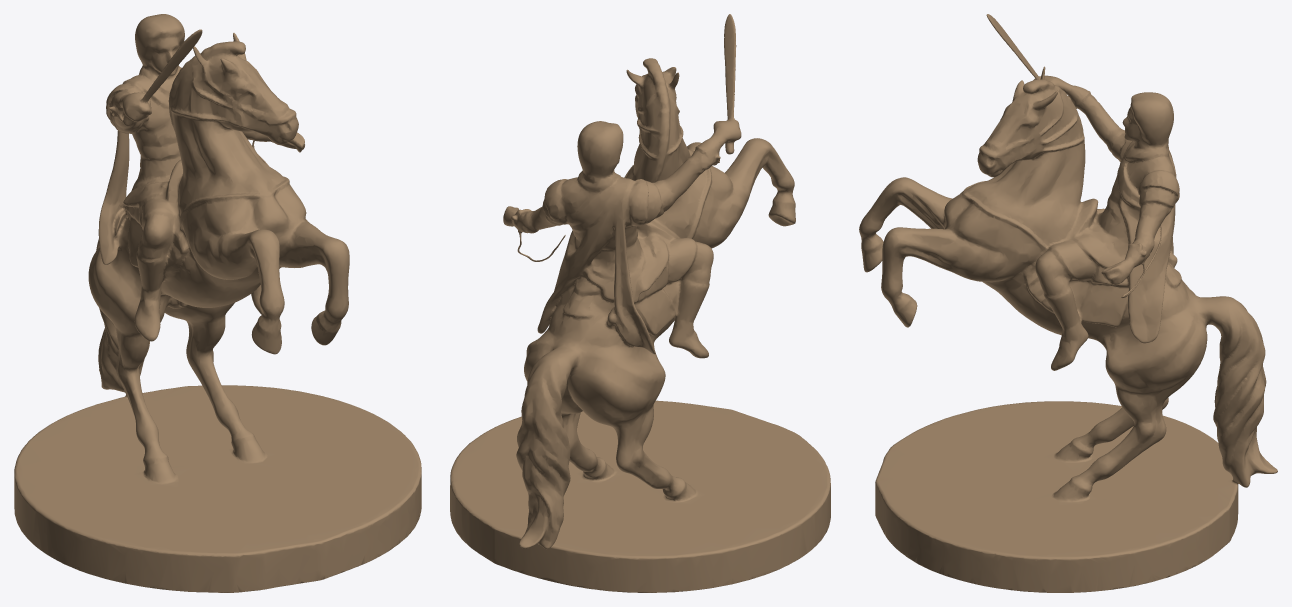
The model's file is warrior-on-horseback.glb.
3 views of the same model, side by side, from view 1: azimuth 30°, elevation 25°; view 2: azimuth 150°, elevation 25°; view 3: azimuth 270°, elevation 25° (orthographic). The views are drawn at different scales.
Visible parts, largest first — view 1: warrior; view 2: warrior; view 3: warrior.
Boxes of the visible parts, box(x1,y1,x2,y2) form: warrior: box(14, 14, 421, 592); warrior: box(450, 14, 830, 592); warrior: box(859, 14, 1277, 592).
Size of the model in its own units: 1.43 by 2 by 1.6.
